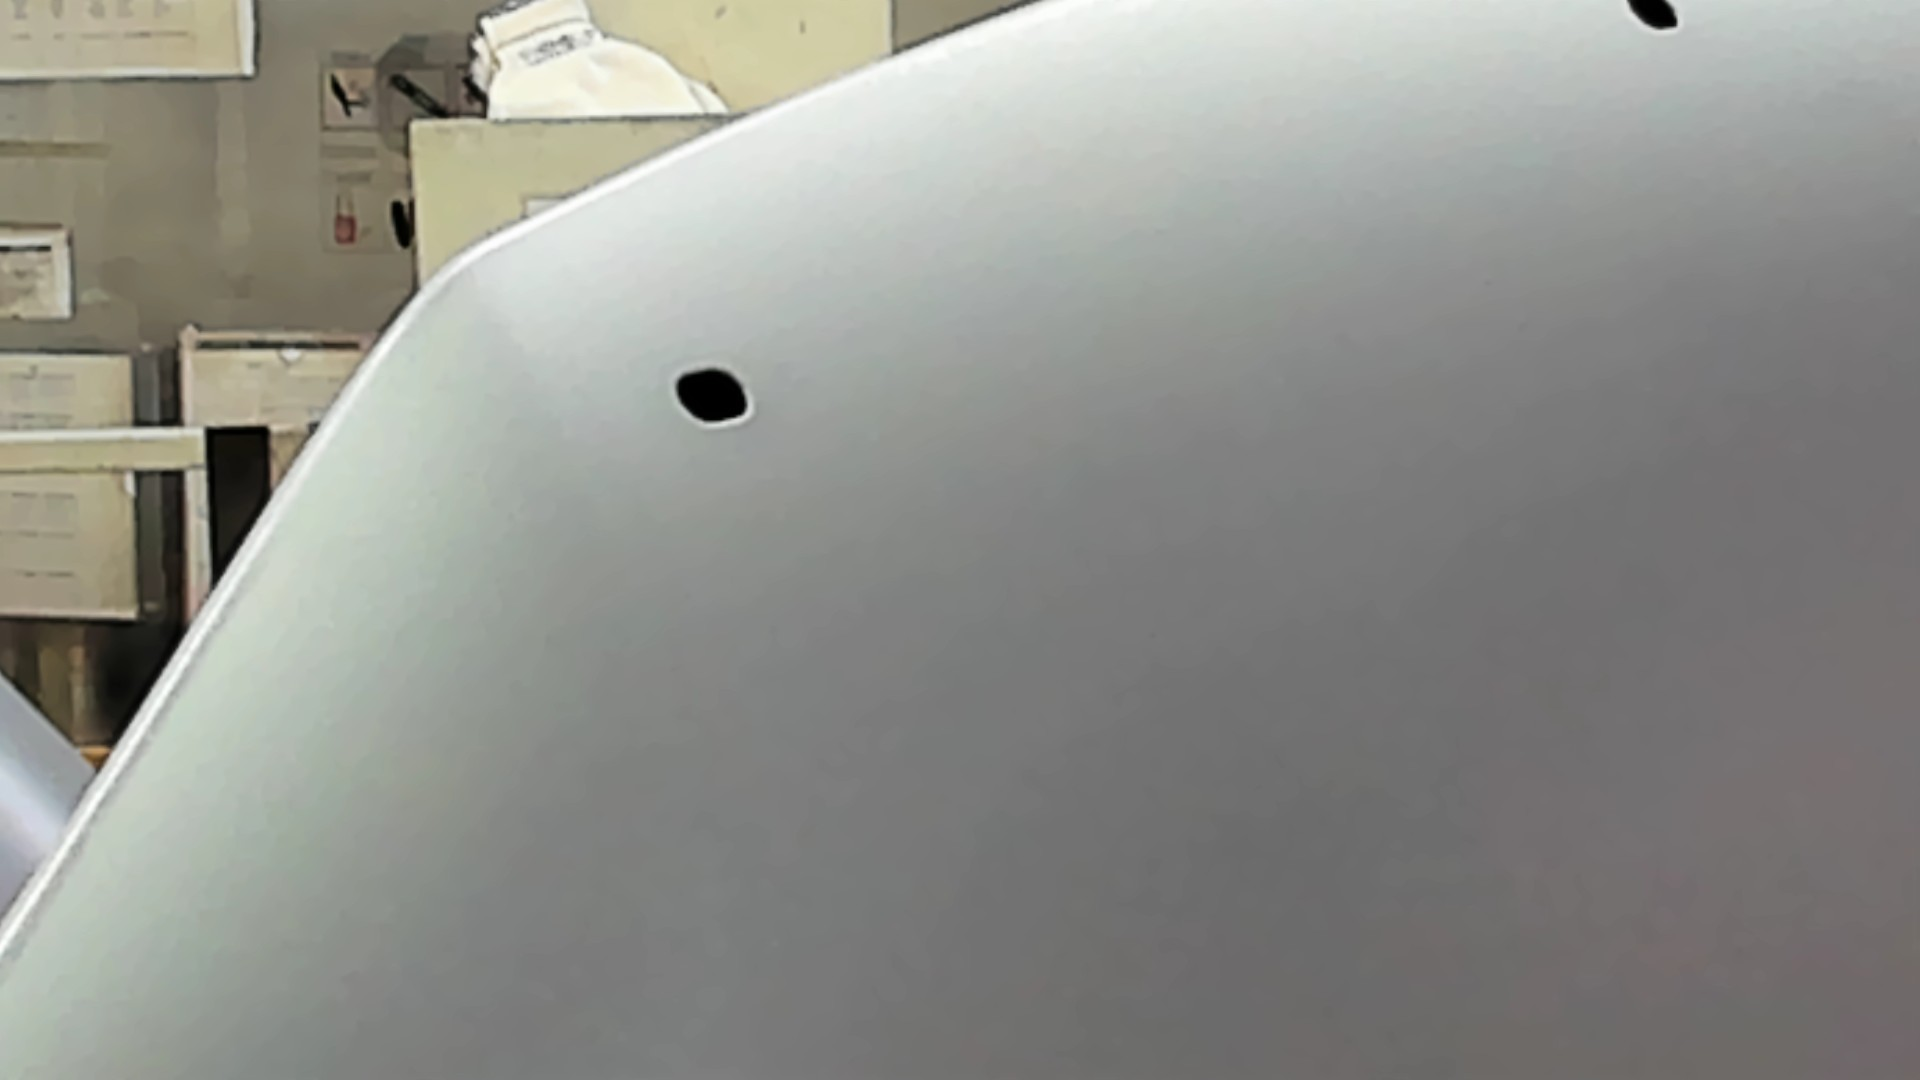amorfo: (670, 363, 760, 429), (1629, 1, 1687, 36)
